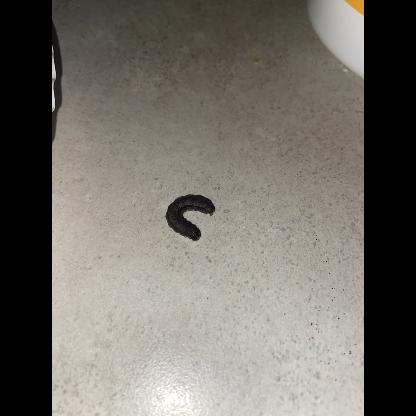Fall Armyworm Larvae: (164, 193, 218, 243)
